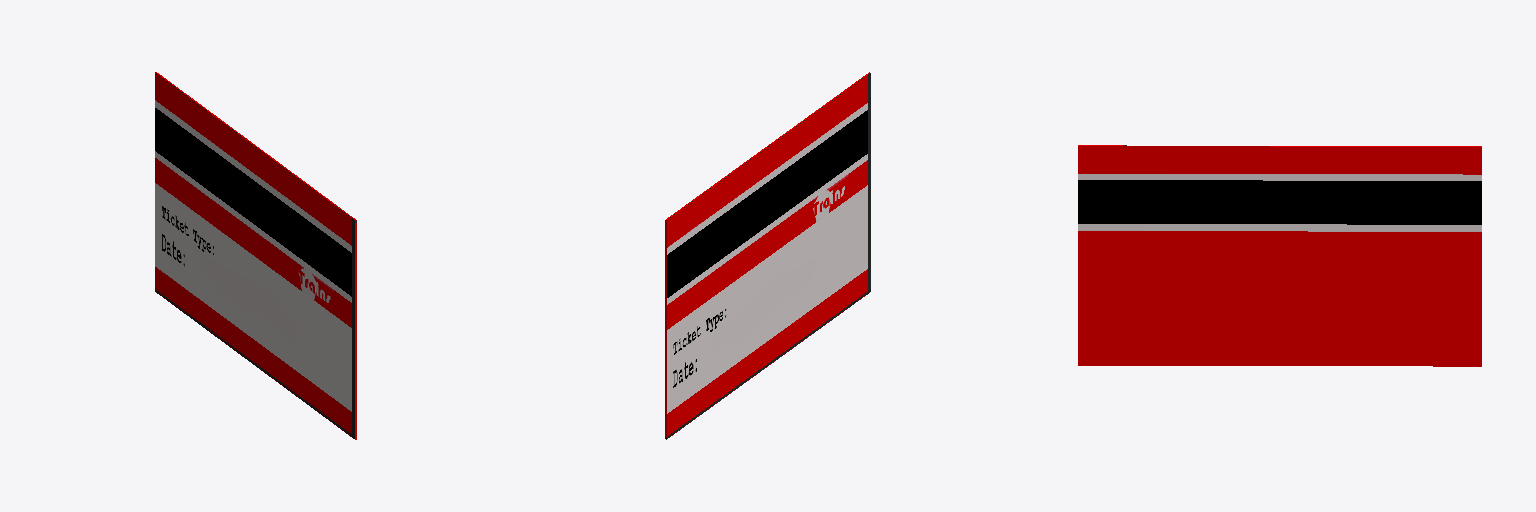
3 renders of one model, left to right at view 1: azimuth 30°, elevation 25°; view 2: azimuth 150°, elevation 25°; view 3: azimuth 270°, elevation 25°, orthographic.
Parts seen in each view (by area): view 1: Cube_Cube.001; view 2: Cube_Cube.001; view 3: Cube_Cube.001.
Boxes of the visible parts, x1,y1,x2,y2 form: Cube_Cube.001: [155, 72, 356, 439]; Cube_Cube.001: [665, 72, 870, 439]; Cube_Cube.001: [1078, 145, 1481, 366].
Bounding box in the file's own units: 0.0462 × 3 × 5.
Materials: 1 (1 with a texture image).